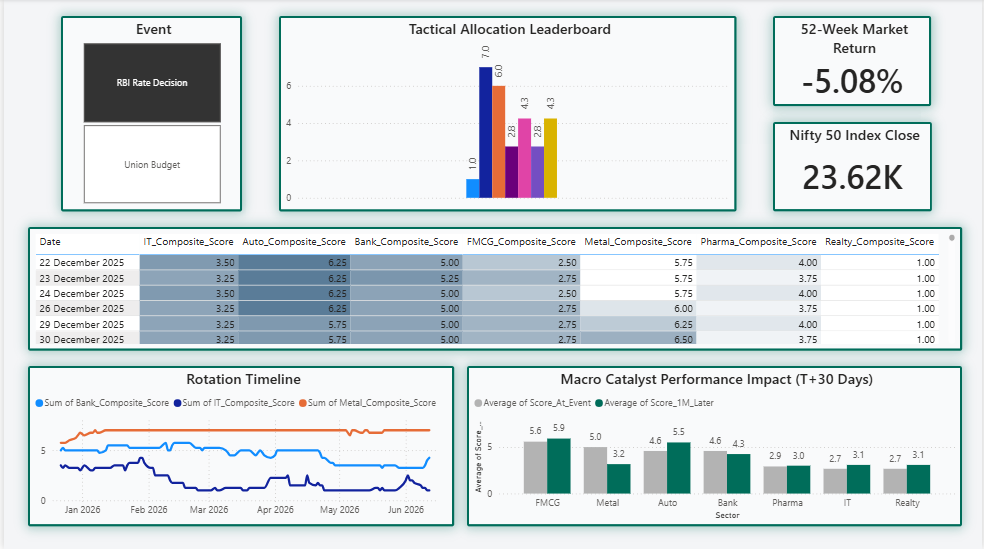

The page's visual inventory and layout, read from the dashboard file:
{"tool":"powerbi","page":{"name":"Terminal","canvas":[1280,720],"ordinal":0},"visuals":[{"type":"clusteredColumnChart","title":"Tactical Allocation Leaderboard","fields":{"Y":["Sum(nse_sector_composite_scores.IT_Composite_Score)","Sum(nse_sector_composite_scores.Metal_Composite_Score)","Sum(nse_sector_composite_scores.Pharma_Composite_Score)","Sum(nse_sector_composite_scores.FMCG_Composite_Score)","Sum(nse_sector_composite_scores.Bank_Composite_Score)","Sum(nse_sector_composite_scores.Realty_Composite_Score)","Sum(nse_sector_composite_scores.Auto_Composite_Score)"]},"box":[360.6,22,598.7,256],"z":0},{"type":"card","title":"Nifty 50 Index Close","fields":{"Values":["Sum(nse_sector_data.Nifty_50)"]},"box":[1006.1,161,207.8,117],"z":1000},{"type":"card","title":"52-Week Market Return","fields":{"Values":["nse_sector_data.Nifty_52W_Return"]},"box":[1006.6,21.6,207.4,118.1],"z":2000},{"type":"tableEx","fields":{"Values":["nse_sector_composite_scores.Date","nse_sector_composite_scores.IT_Composite_Score","nse_sector_composite_scores.Auto_Composite_Score","nse_sector_composite_scores.Bank_Composite_Score","nse_sector_composite_scores.FMCG_Composite_Score","nse_sector_composite_scores.Metal_Composite_Score","nse_sector_composite_scores.Pharma_Composite_Score","nse_sector_composite_scores.Realty_Composite_Score"]},"box":[31.7,298.3,1223.3,161.7],"z":3000},{"type":"slicer","title":"Event","fields":{"Values":["nse_macro_rotation_overlay.Event_Type"]},"box":[74.3,22,236.7,256],"z":4000},{"type":"clusteredColumnChart","title":"Macro Catalyst Performance Impact (T+30 Days)","fields":{"Category":["nse_macro_rotation_overlay.Sector"],"Y":["Avg(nse_macro_rotation_overlay.Score_At_Event)","Avg(nse_macro_rotation_overlay.Score_1M_Later)"]},"box":[606.7,480,648.3,210],"z":5000},{"type":"lineChart","title":"Rotation Timeline","fields":{"Category":["nse_sector_composite_scores.Date"],"Y":["Sum(nse_sector_composite_scores.Bank_Composite_Score)","Sum(nse_sector_composite_scores.IT_Composite_Score)","Sum(nse_sector_composite_scores.Metal_Composite_Score)"]},"box":[31.7,480,558.3,210],"z":6000}]}

Visuals, with their boxes in screenshot pixels (x1, y1, x2, y2), scaled from the page's 1280x720 canvas onto the 984x549 screenshot:
"Tactical Allocation Leaderboard" clusteredColumnChart: [left=277, top=17, right=737, bottom=212]
"Nifty 50 Index Close" card: [left=773, top=123, right=933, bottom=212]
"52-Week Market Return" card: [left=774, top=16, right=933, bottom=107]
tableEx - nse_sector_composite_scores.Date x nse_sector_composite_scores.IT_Composite_Score: [left=24, top=227, right=965, bottom=351]
"Event" slicer: [left=57, top=17, right=239, bottom=212]
"Macro Catalyst Performance Impact (T+30 Days)" clusteredColumnChart: [left=466, top=366, right=965, bottom=526]
"Rotation Timeline" lineChart: [left=24, top=366, right=454, bottom=526]
